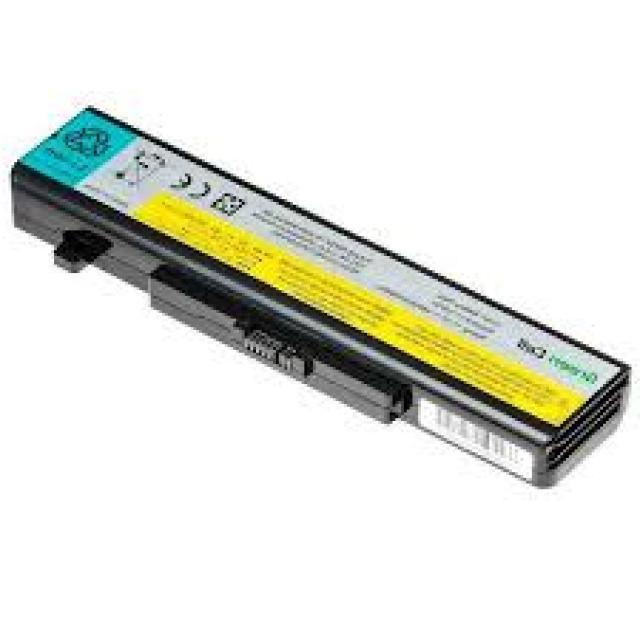battery: (5, 101, 630, 496)
